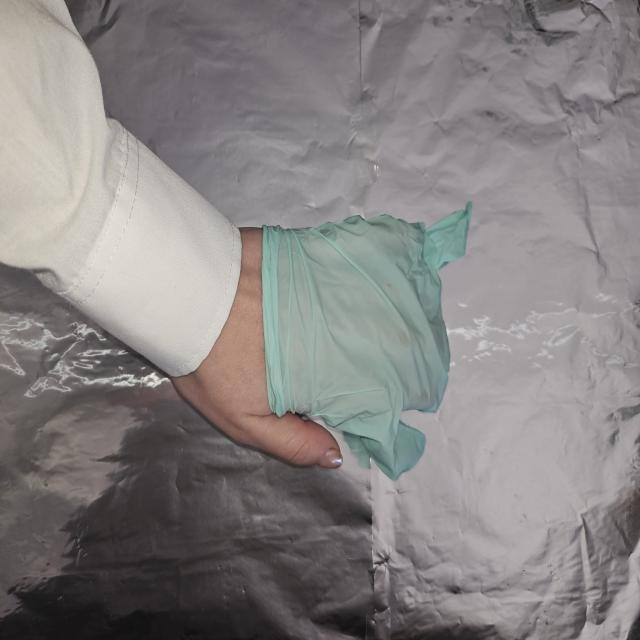glove_partial: (190, 198, 472, 481)
